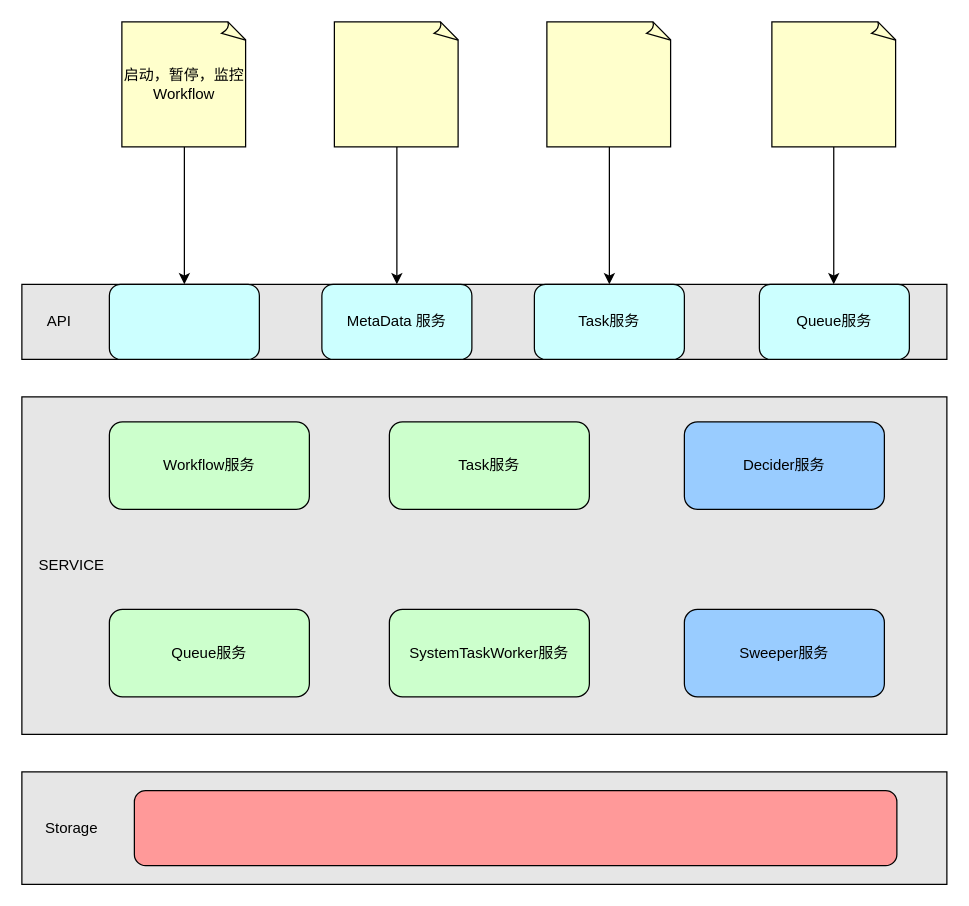
Image size: 969x906. Some labels were removed from this diagram. Each missing label, with the centre of its shape:
MYSQL: point 515,827
Task监控，Task执行: point 609,84
Workflow 服务: point 183,321
定义Task 与Workflow: point 396,84
监控队列: point 834,84
